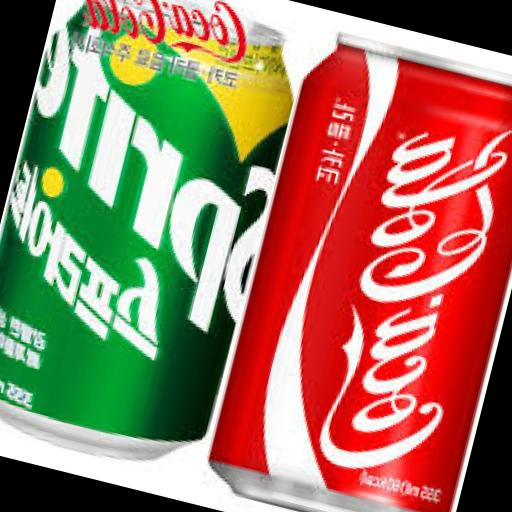Coca: (197, 21, 512, 512)
